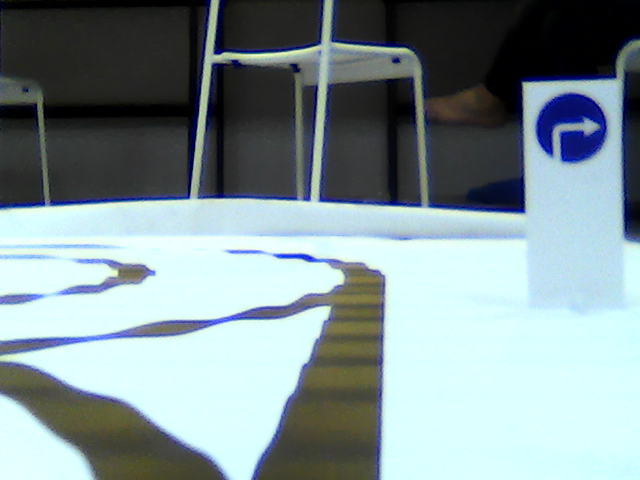Right: (531, 90, 610, 161)
